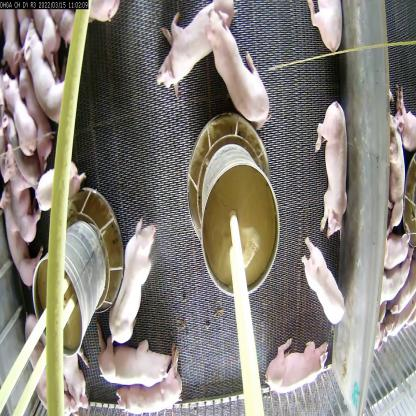Pig: (206, 2, 274, 136), (101, 218, 159, 344), (157, 0, 234, 93), (313, 96, 353, 246), (260, 336, 330, 395), (22, 23, 66, 115), (100, 330, 170, 386), (301, 238, 346, 325), (26, 313, 64, 415), (121, 356, 185, 416), (2, 151, 37, 236), (33, 160, 84, 216), (4, 66, 30, 143)
